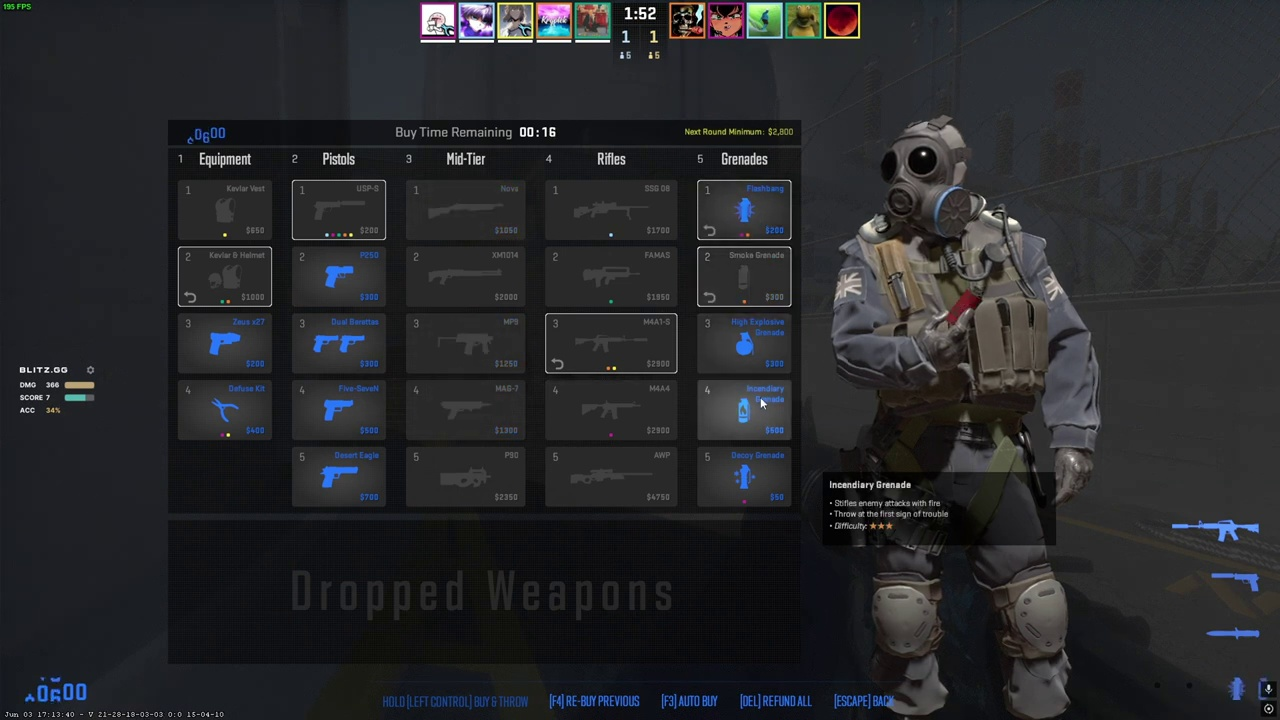CT: (854, 123, 1077, 720)
